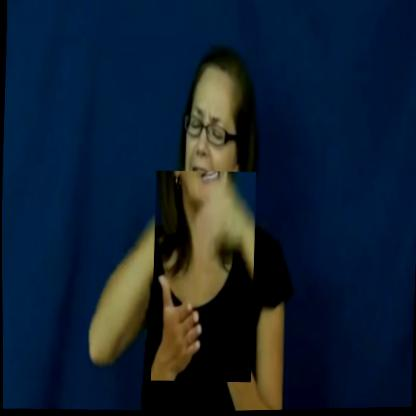Expensive: (149, 170, 258, 385)
